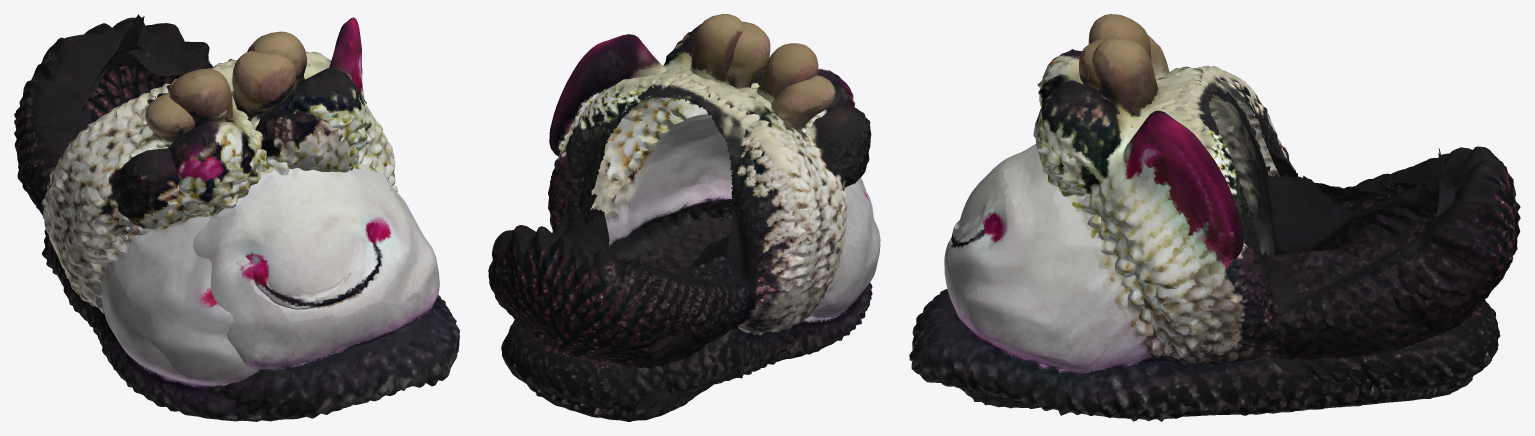
Rendered from slippers_shy_cow.glb.
The picture shows the model from 3 angles, left to right: view 1: azimuth 30°, elevation 25°; view 2: azimuth 150°, elevation 25°; view 3: azimuth 270°, elevation 25°; orthographic projection. The views are drawn at different scales.
Visible parts, largest first — view 1: Slipper_L_shy_cow, Slipper_R_shy_cow; view 2: Slipper_R_shy_cow, Slipper_L_shy_cow; view 3: Slipper_L_shy_cow, Slipper_R_shy_cow.
Boxes of the visible parts, x1,y1,x2,y2 form: Slipper_L_shy_cow: (42, 17, 459, 419); Slipper_R_shy_cow: (14, 14, 411, 421); Slipper_R_shy_cow: (488, 21, 880, 407); Slipper_L_shy_cow: (520, 14, 865, 421); Slipper_L_shy_cow: (909, 14, 1491, 421); Slipper_R_shy_cow: (960, 35, 1520, 408).
Bounding box in the file's own units: 0.1779 × 0.1774 × 0.2908.
2 materials, 2 textured.
